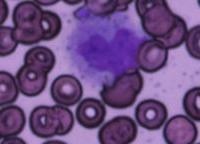M: (64, 4, 150, 86)
